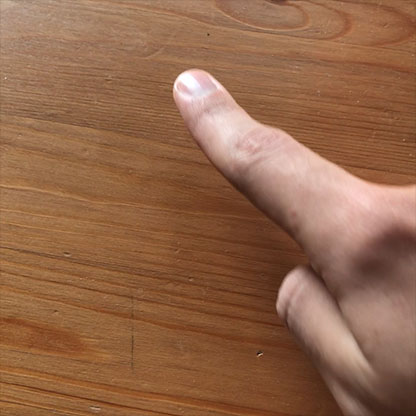fingertip: (159, 55, 234, 115)
